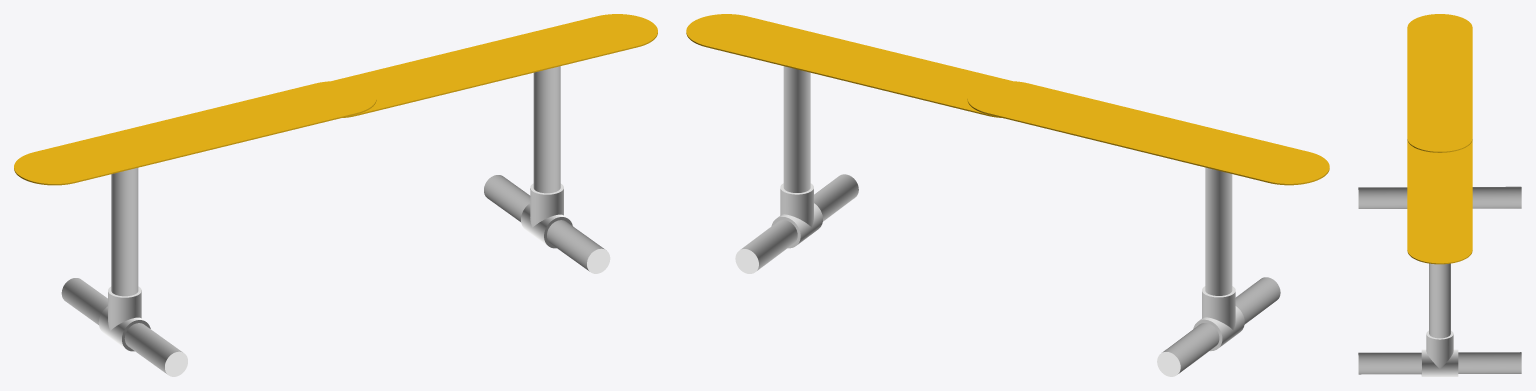
File: path_marker_straight.dae
3 renders of one model, left to right at view 1: azimuth 30°, elevation 25°; view 2: azimuth 150°, elevation 25°; view 3: azimuth 270°, elevation 25°, orthographic. The views are drawn at different scales.
Parts seen in each view (by area): view 1: to_marker, from_marker, to_leg, from_leg, from_foot, to_foot, to_T_joint, from_T_joint; view 2: to_marker, from_marker, to_leg, from_leg, to_foot, from_foot, from_T_joint, to_T_joint; view 3: to_marker, from_marker, from_foot, to_foot, from_leg, from_T_joint.
Boxes of the visible parts, box(x1,y1,x2,y2) form: to_marker: box(14, 81, 376, 185); from_marker: box(331, 14, 657, 117); to_leg: box(111, 168, 138, 296); from_leg: box(533, 66, 560, 193); from_foot: box(484, 175, 610, 273); to_foot: box(61, 278, 187, 376); to_T_joint: box(98, 286, 150, 351); from_T_joint: box(521, 183, 572, 248); to_marker: box(967, 81, 1329, 185); from_marker: box(686, 14, 1012, 117); to_leg: box(1205, 167, 1232, 295); from_leg: box(783, 66, 810, 192); to_foot: box(1157, 277, 1280, 376); from_foot: box(735, 174, 858, 273); from_T_joint: box(771, 183, 822, 248); to_T_joint: box(1193, 286, 1244, 351); to_marker: box(1407, 14, 1472, 152); from_marker: box(1407, 140, 1472, 264); from_foot: box(1358, 352, 1521, 374); to_foot: box(1358, 186, 1521, 208); from_leg: box(1429, 263, 1450, 338); from_T_joint: box(1421, 330, 1458, 376).
Bounding box in the file's own units: 1.37 × 0.3814 × 0.3994.
